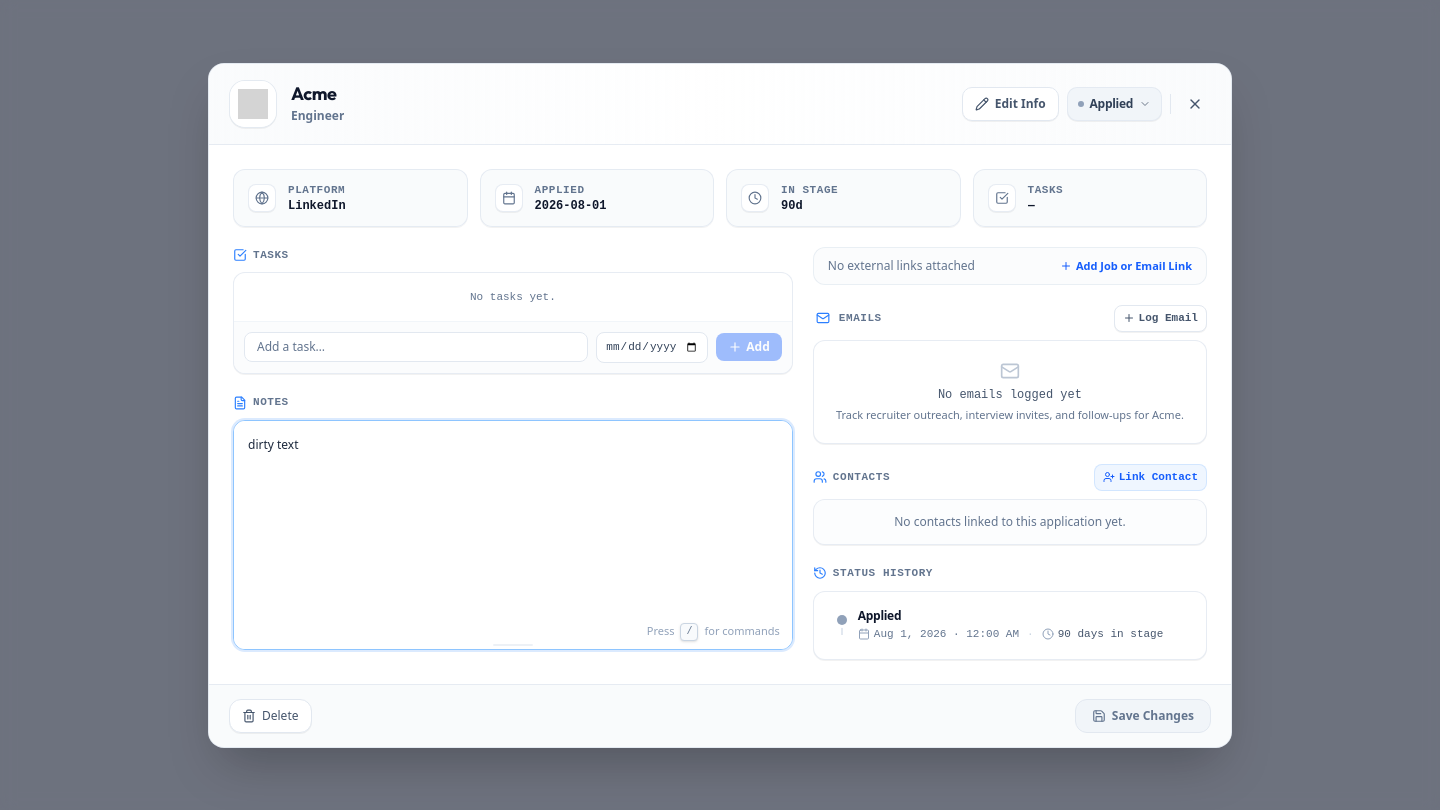
Test: ApplicationDetailPanel note persistence › passes only unsaved-notes dirty state to the footer Save button
Check: the button "Save Changes" is disabled, box [1075,698,1211,732]
Clear the field labelled "dirty text" at {"x": 513, "y": 534}, box [234,420,792,648]
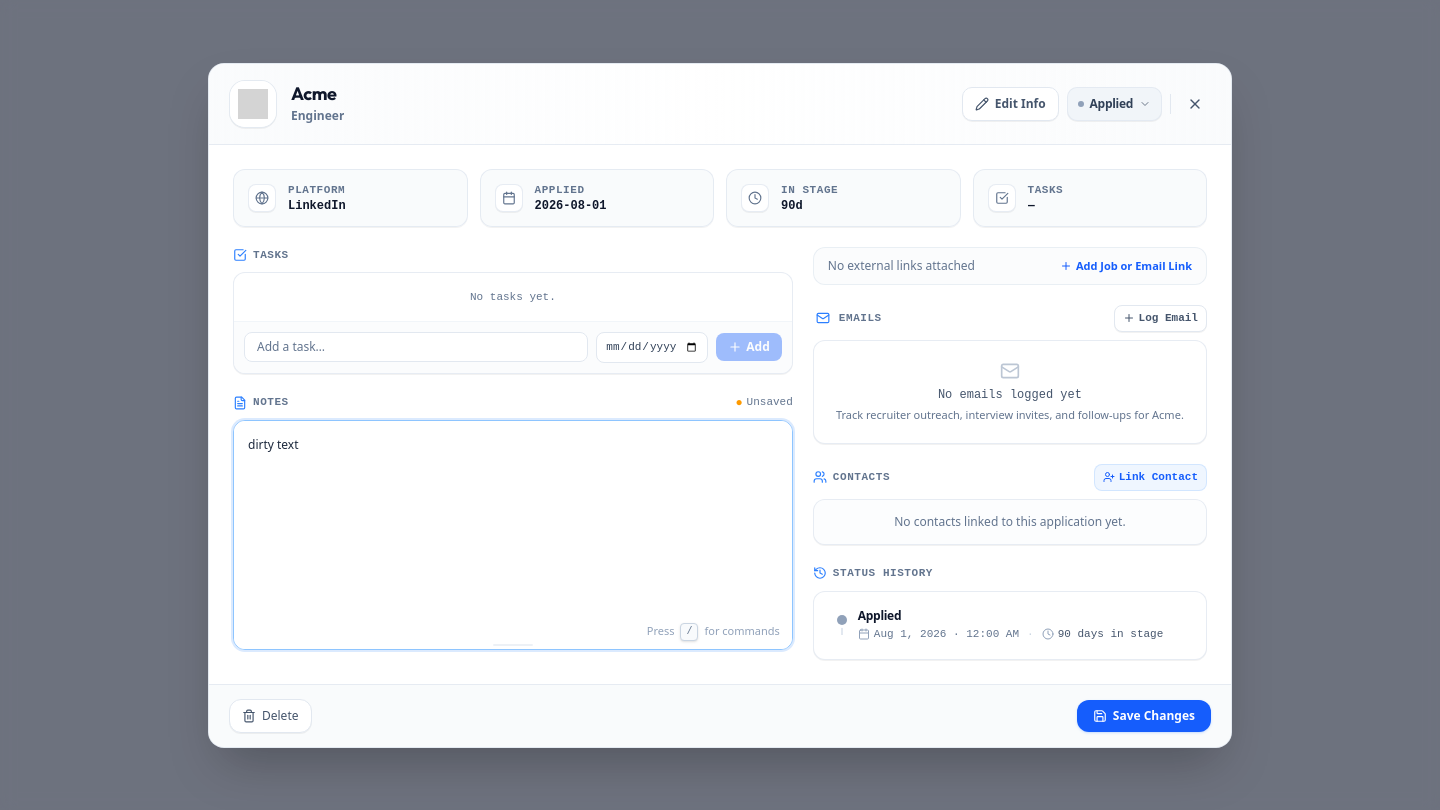
Check: the button "Save Changes" is enabled, box [1077,700,1211,732]
